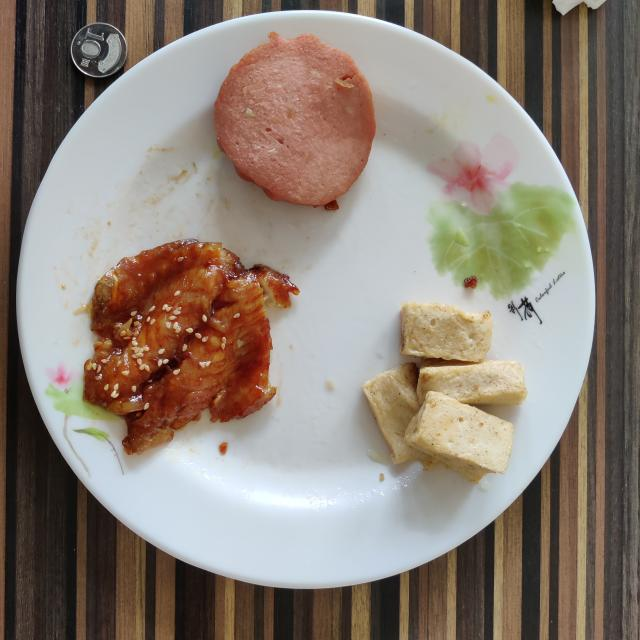Kabayaki sea bream fillet: (84, 239, 299, 454)
Spam: (214, 32, 376, 210)
coin: (71, 22, 128, 78)
creamy tofu -without sauce-: (362, 302, 528, 484)
